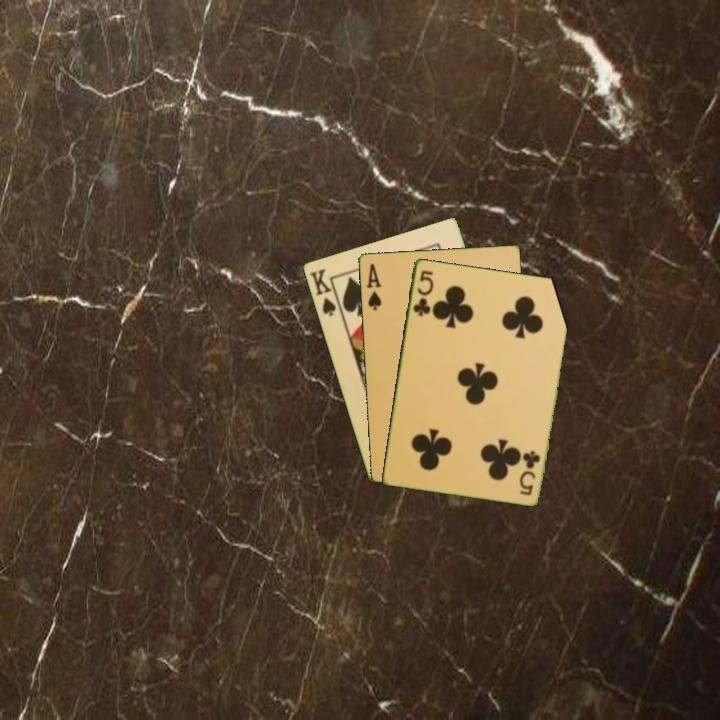5c: (409, 266, 436, 319), (516, 447, 543, 498)
As: (362, 260, 384, 313)
Ks: (306, 265, 344, 319)
